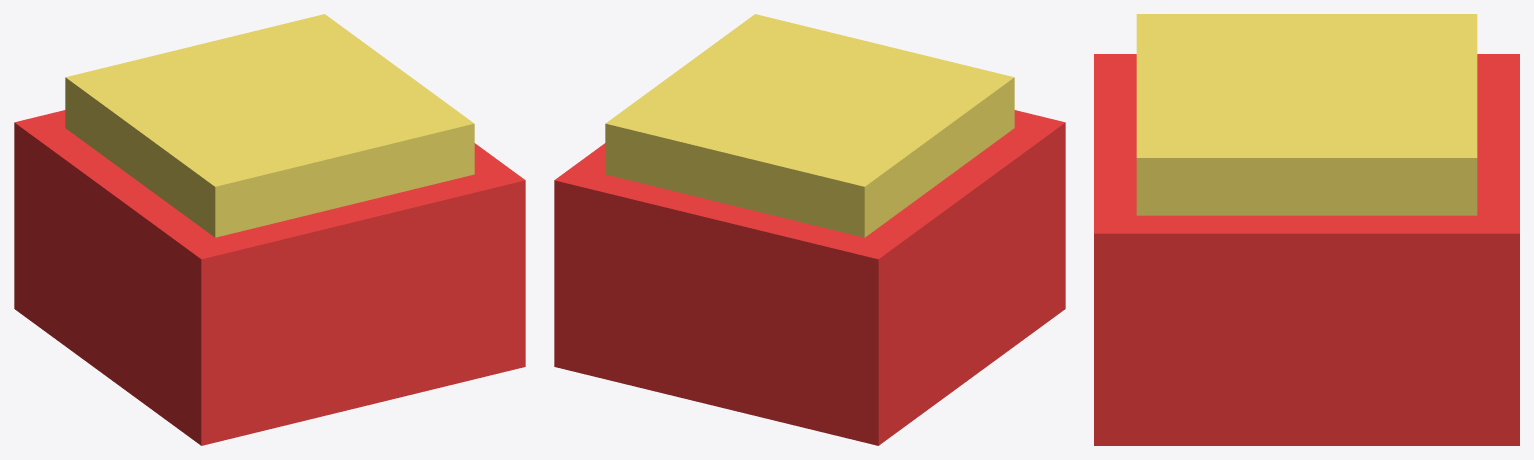
File: trolley.glb
3 views of the same model, side by side, from view 1: azimuth 30°, elevation 25°; view 2: azimuth 150°, elevation 25°; view 3: azimuth 270°, elevation 25° (orthographic). The views are drawn at different scales.
Visible parts, largest first — view 1: Body, Lid; view 2: Body, Lid; view 3: Body, Lid.
Part boxes in pixels (x1,y1,x2,y2): Body: (14,110,525,445); Lid: (65,14,474,237); Body: (554,110,1065,445); Lid: (605,14,1014,237); Body: (1094,54,1519,445); Lid: (1136,14,1477,215).
Bounding box in the file's own units: 0.4 × 0.28 × 0.4.
